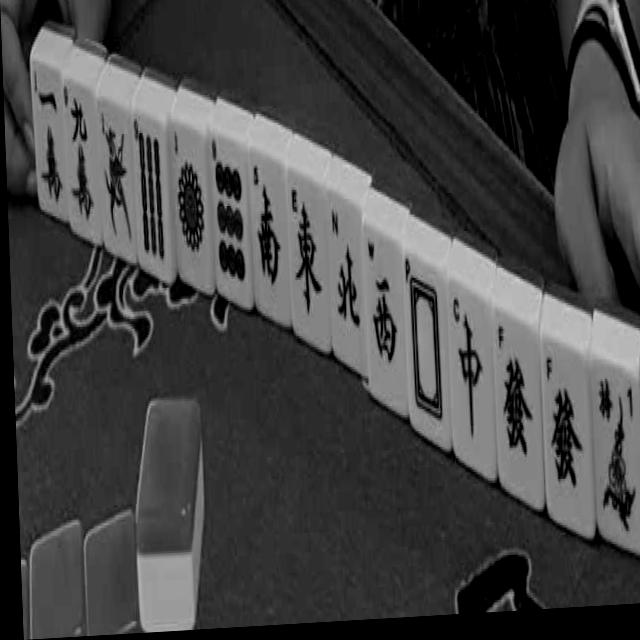bai: (401, 245, 451, 447)
east: (286, 172, 329, 340)
f1: (589, 350, 640, 551)
fa: (540, 343, 590, 513), (494, 313, 540, 493)
m1: (27, 56, 67, 224)
m9: (61, 70, 99, 243)
north: (325, 196, 367, 366)
s1: (96, 104, 136, 267)
s9: (132, 113, 174, 277)
south: (247, 136, 290, 314)
t1: (171, 120, 211, 292)
t9: (208, 129, 252, 308)
west: (363, 223, 411, 421)
zhong: (445, 286, 496, 477)
